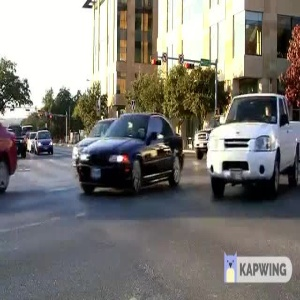car: (69, 110, 189, 204)
truck: (203, 91, 300, 207)
